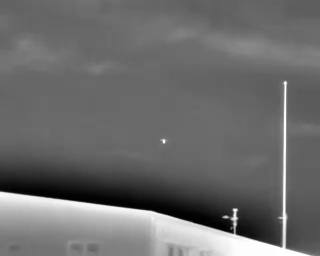HELICOPTER: (158, 136, 170, 147)
